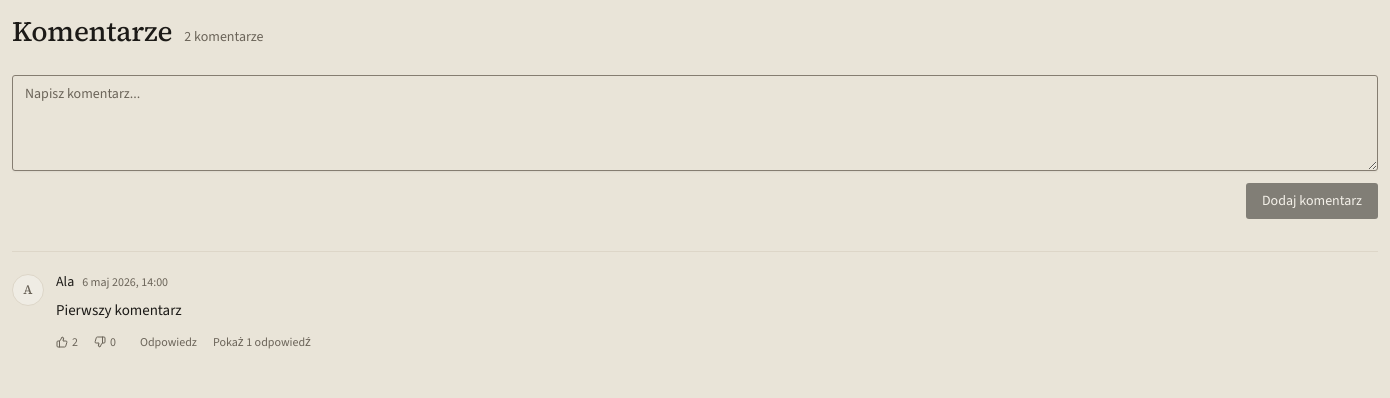
Test case: ArticleComments › rolls back the vote when the server rejects it
Click the button named "Głos pozytywny (2)" at (67, 342), box [50,330,84,354]
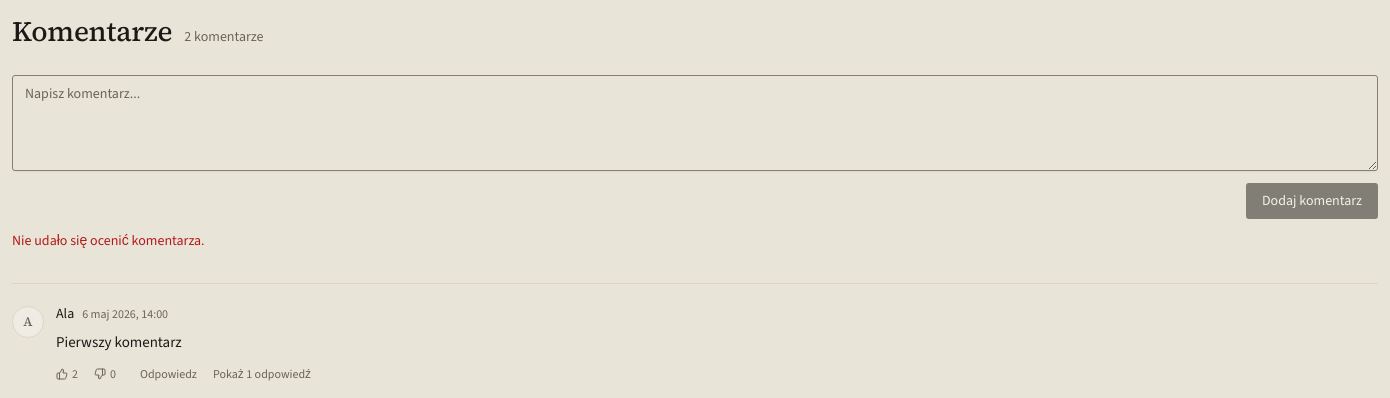
Check: the text "Nie udało się ocenić komentarza." is shown, box [12,230,204,250]
